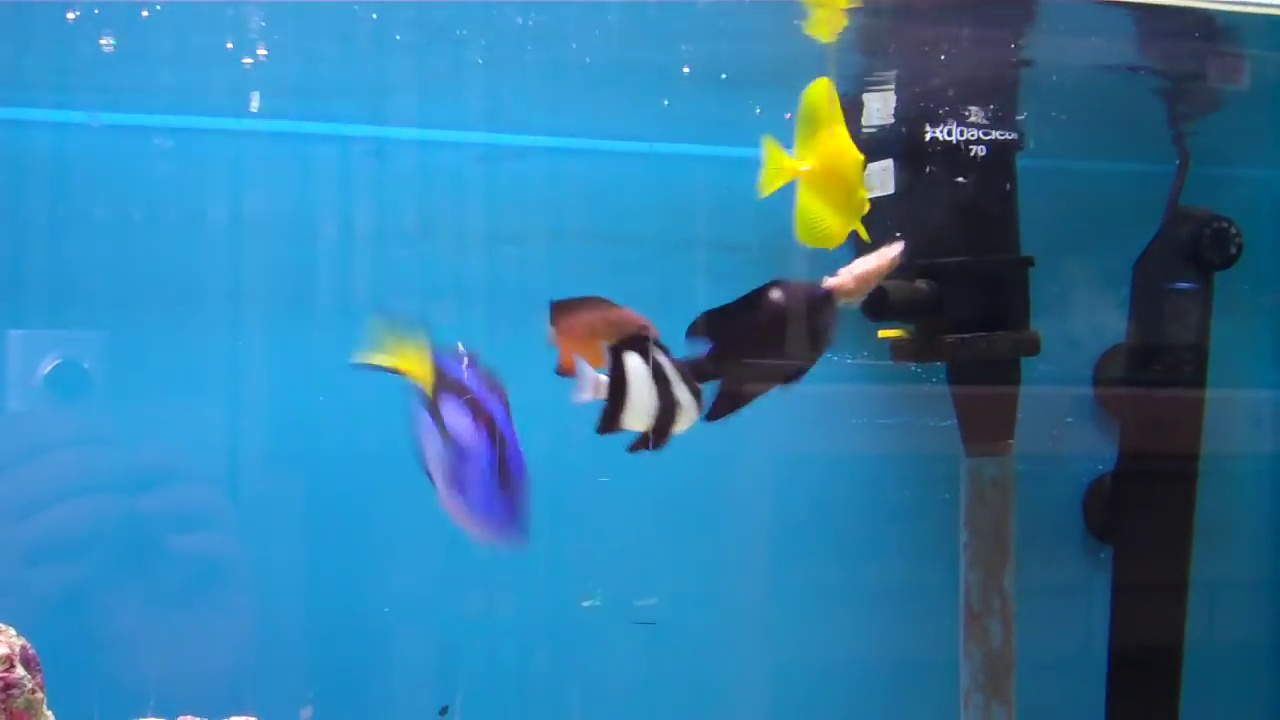blue tang surgeonfish: (331, 299, 541, 554)
saddle butterfly fish: (758, 84, 883, 256)
